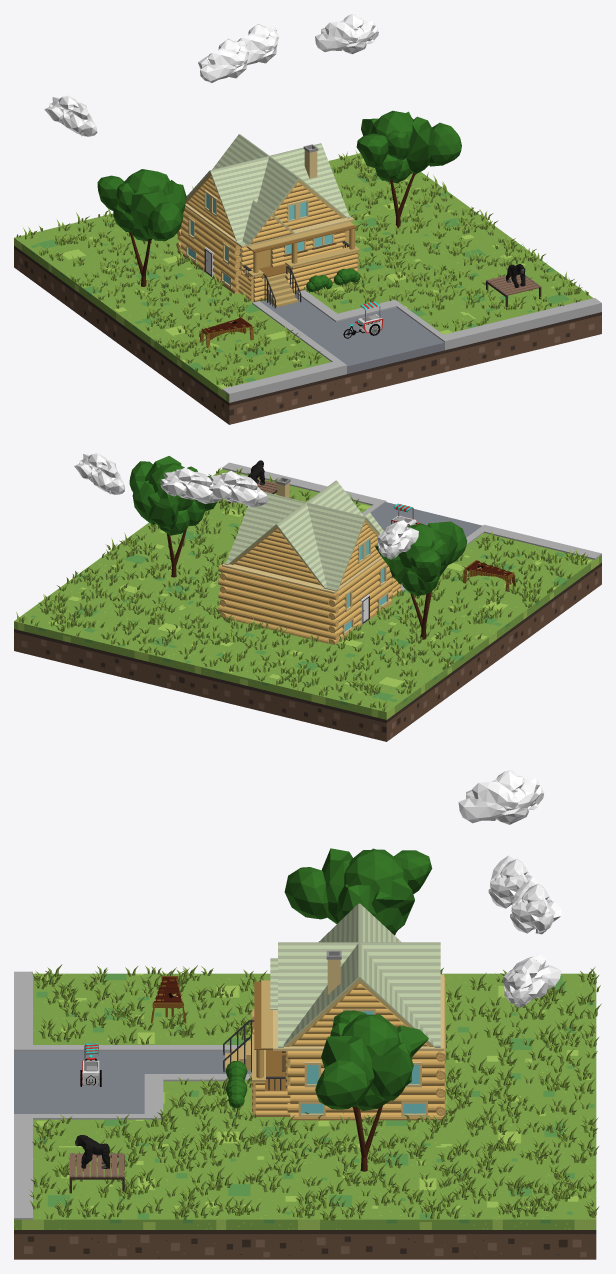
3 views of the same model, one above another, from view 1: azimuth 30°, elevation 25°; view 2: azimuth 150°, elevation 25°; view 3: azimuth 270°, elevation 25° (orthographic). The views are drawn at different scales.
Visible parts, largest first — view 1: Cube.006, Cube.1516, Circle.012_Grass_0.192, Cube.007, tree, tree.001, Cube.009, OBJRANDOM_MARIMBA, VEHICLES_SNOWBAL_BIKE; view 2: Cube.006, Cube.1516, Circle.012_Grass_0.192, Cube.007, tree.001, tree, OBJRANDOM_MARIMBA; view 3: Cube.006, Circle.012_Grass_0.192, Cube.1516, tree, Cube.007, tree.001, Cube.009, OBJRANDOM_MARIMBA, VEHICLES_SNOWBAL_BIKE, ANIMAL_GORILA.
Boxes of the visible parts, x1,y1,x2,y2 form: Cube.006: [14, 153, 601, 424]; Cube.1516: [176, 134, 359, 308]; Circle.012_Grass_0.192: [16, 150, 588, 386]; Cube.007: [44, 14, 378, 136]; tree: [356, 110, 461, 228]; tree.001: [97, 169, 186, 286]; Cube.009: [486, 274, 541, 306]; OBJRANDOM_MARIMBA: [200, 316, 253, 347]; VEHICLES_SNOWBAL_BIKE: [343, 301, 383, 338]; Cube.006: [14, 462, 601, 741]; Cube.1516: [218, 477, 401, 644]; Circle.012_Grass_0.192: [16, 468, 588, 711]; Cube.007: [74, 453, 418, 559]; tree.001: [375, 521, 467, 639]; tree: [129, 456, 216, 577]; OBJRANDOM_MARIMBA: [463, 560, 515, 591]; Cube.006: [14, 971, 596, 1259]; Circle.012_Grass_0.192: [29, 964, 601, 1220]; Cube.1516: [223, 903, 445, 1120]; tree: [315, 1010, 428, 1171]; Cube.007: [458, 770, 561, 1007]; tree.001: [284, 848, 432, 935]; Cube.009: [69, 1153, 124, 1193]; OBJRANDOM_MARIMBA: [151, 976, 186, 1023]; VEHICLES_SNOWBAL_BIKE: [80, 1043, 102, 1086]; ANIMAL_GORILA: [75, 1135, 109, 1168].
Bounding box in the file's own units: 4071 × 2277 × 4040.
Materials: 37 (4 with a texture image).
